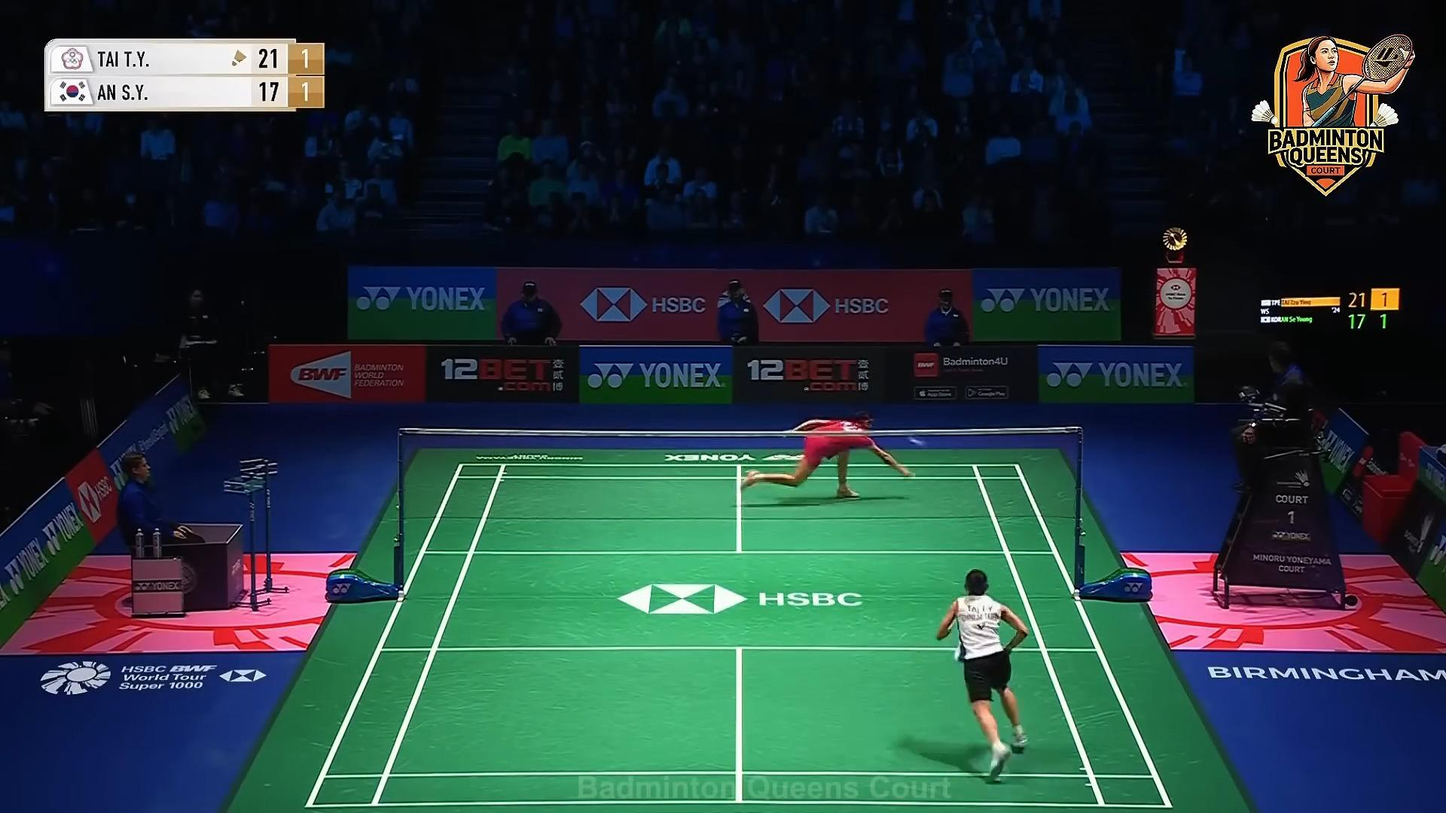player: (937, 570, 1030, 784), (740, 413, 911, 501)
shuttlecock: (910, 437, 929, 450)
